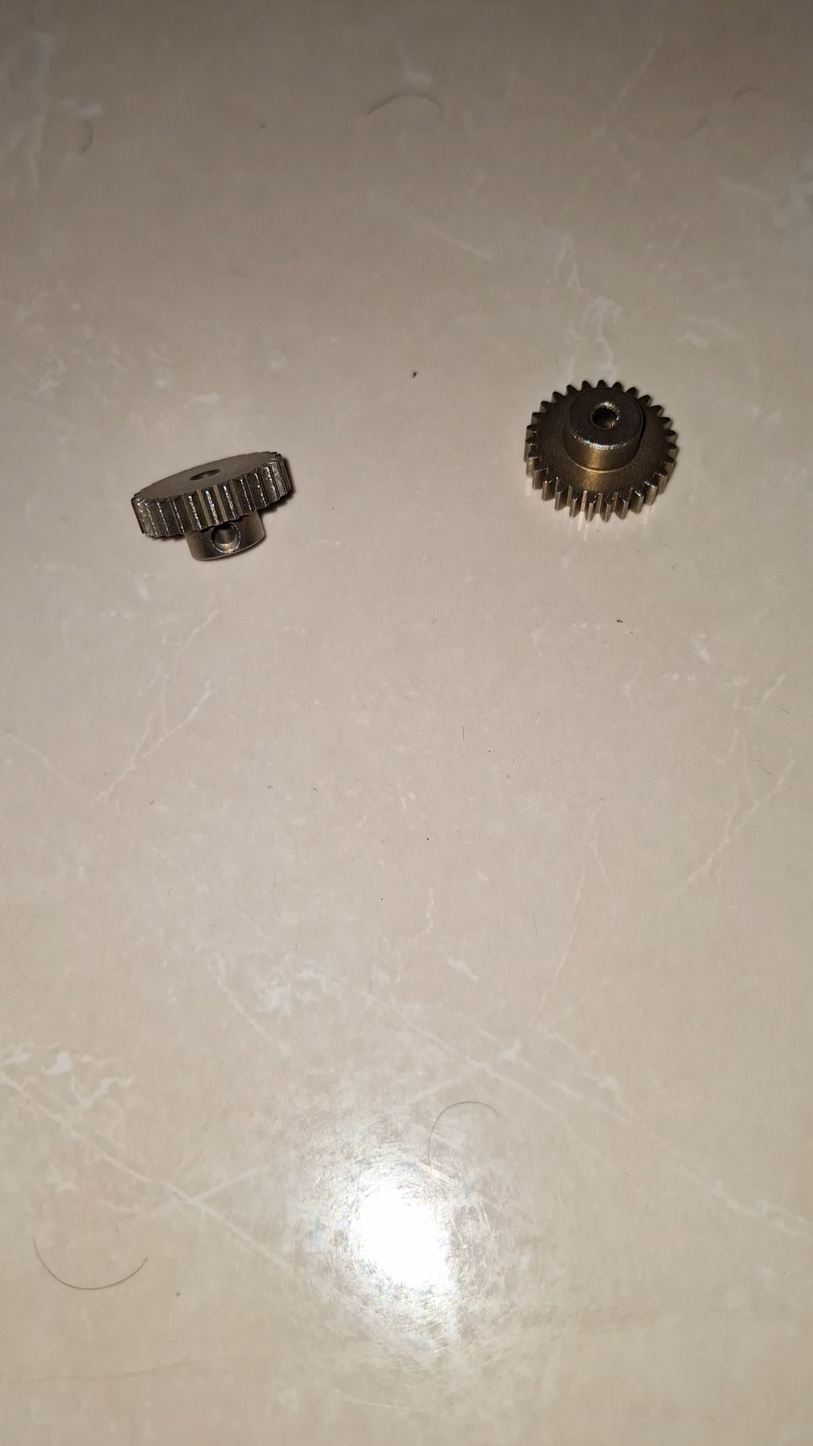spur gear: (525, 381, 677, 519), (132, 452, 291, 558)
